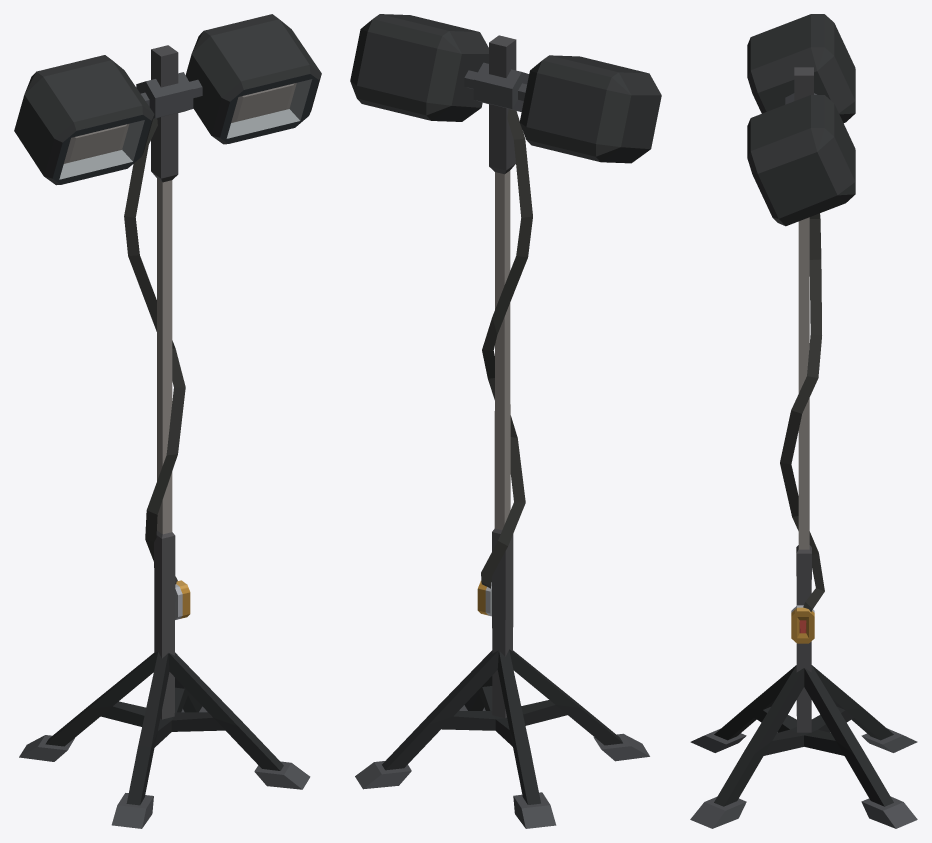
The model's file is SM_Prop_Light_Pole_01.glb.
3 renders of one model, left to right at view 1: azimuth 30°, elevation 25°; view 2: azimuth 150°, elevation 25°; view 3: azimuth 270°, elevation 25°, orthographic. The views are drawn at different scales.
Visible parts, largest first — view 1: SM_Prop_Light_Pole_01; view 2: SM_Prop_Light_Pole_01; view 3: SM_Prop_Light_Pole_01.
Part boxes in pixels (<box>): SM_Prop_Light_Pole_01: <box>14,14,321,828</box>; SM_Prop_Light_Pole_01: <box>350,14,661,828</box>; SM_Prop_Light_Pole_01: <box>690,14,917,828</box>.
Bounding box in the file's own units: 104 × 267 × 77.65.
1 material, 1 textured.
